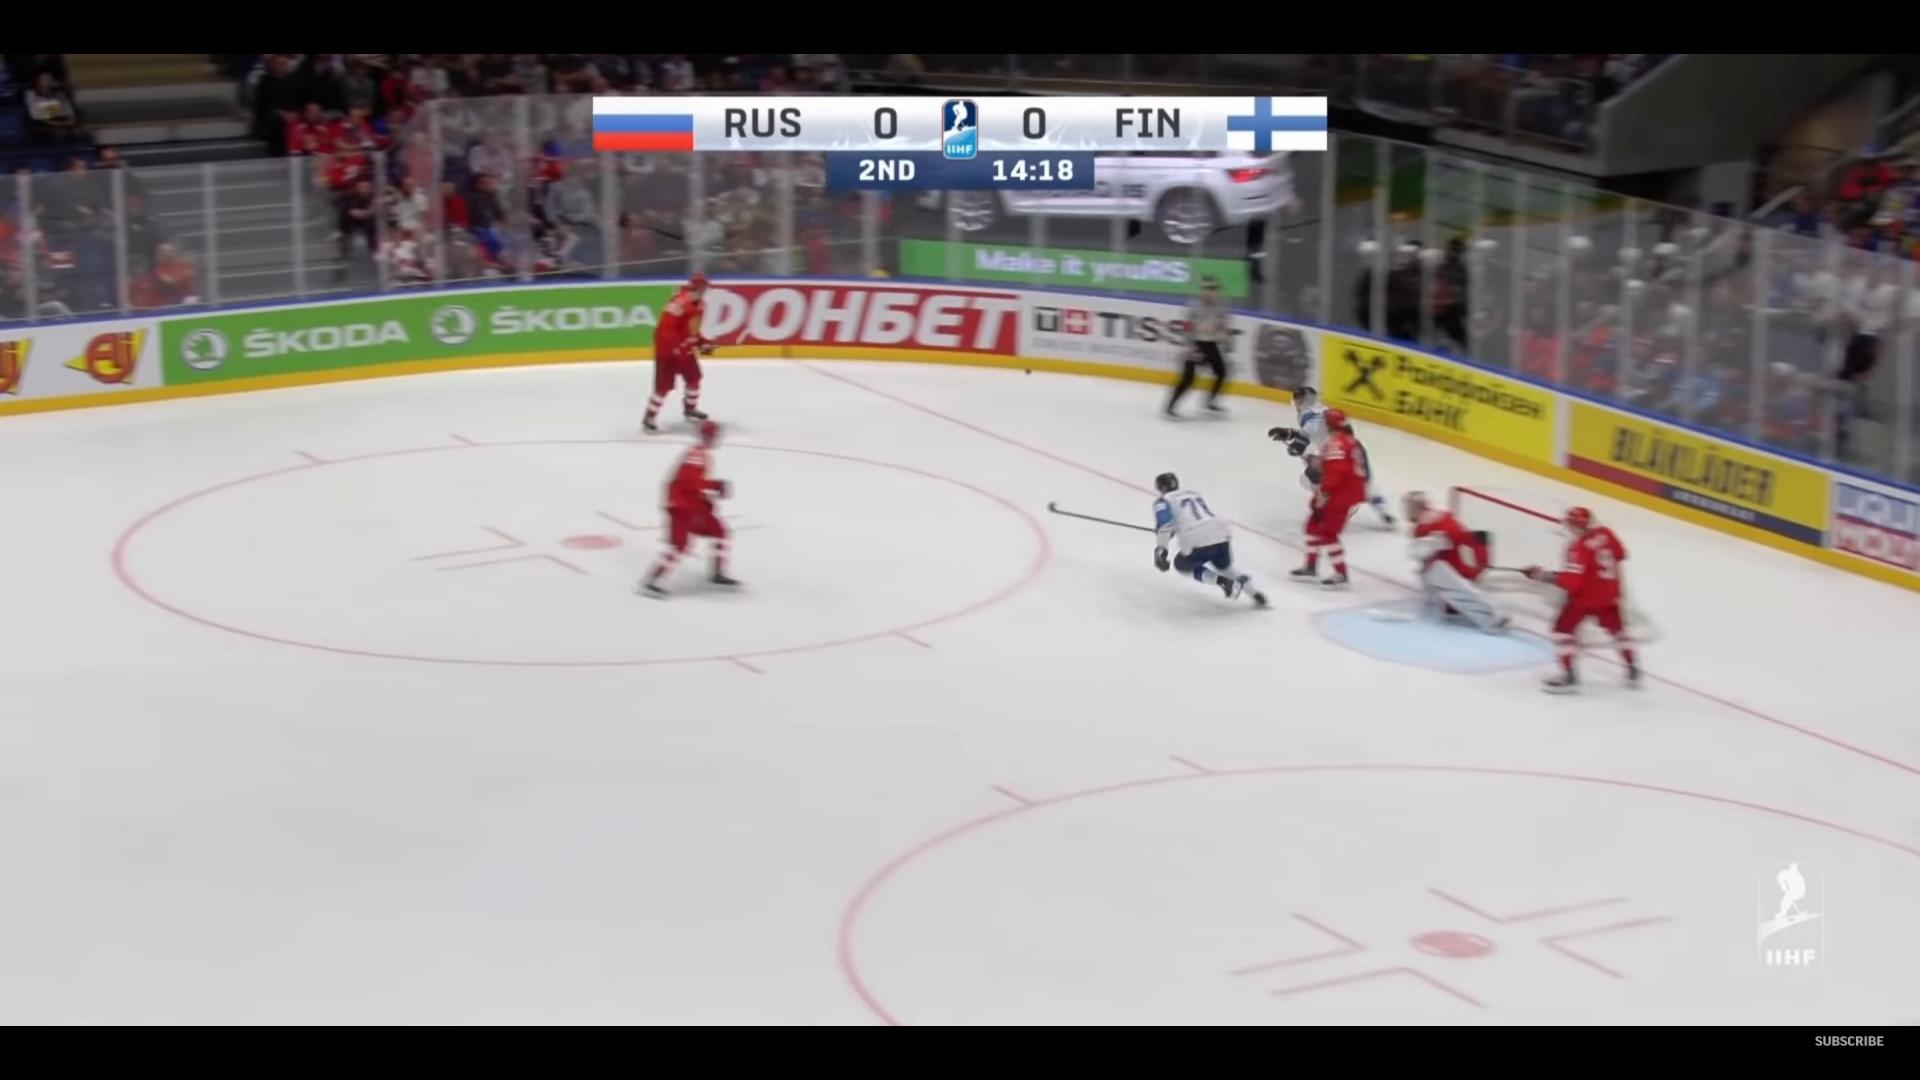puck: (1023, 367, 1031, 376)
